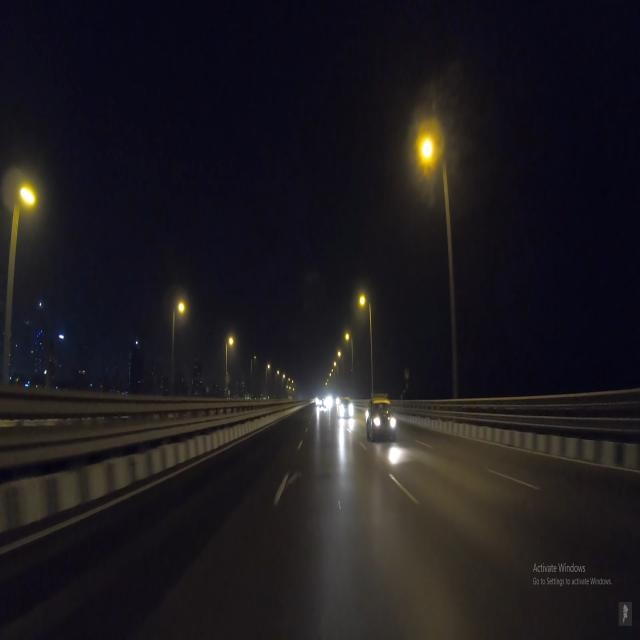headlights: (369, 405, 401, 436)
